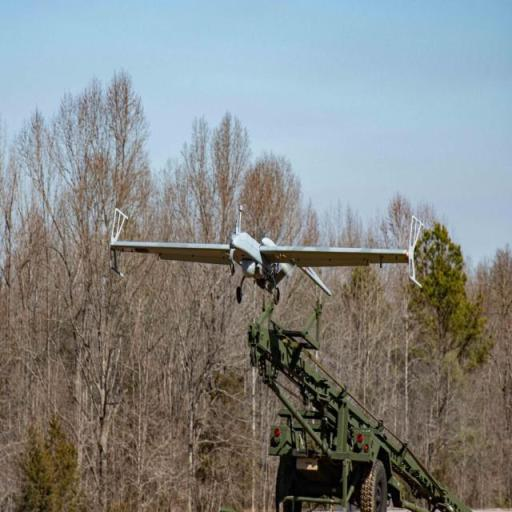uav: (100, 199, 428, 313)
